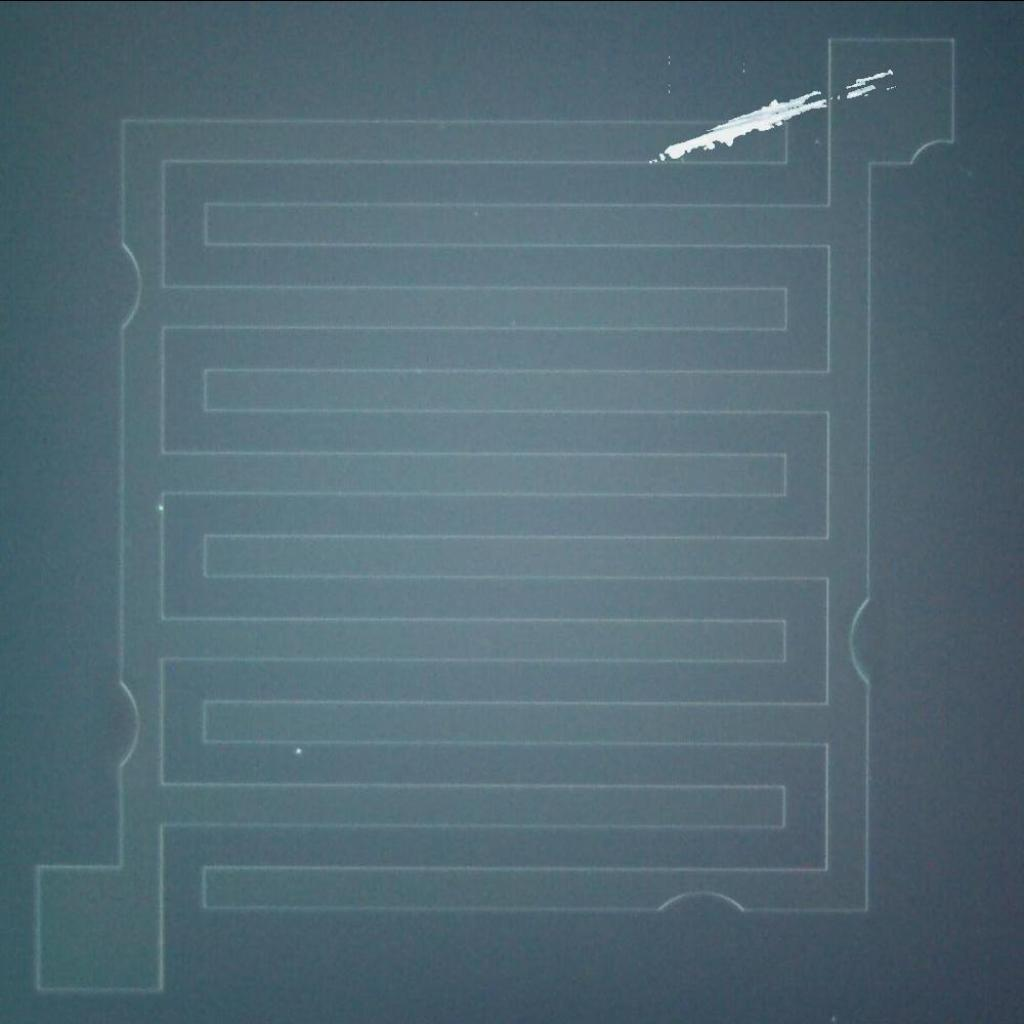curve circuit: (105, 666, 152, 787), (642, 879, 764, 925), (841, 578, 883, 696), (106, 231, 148, 341), (900, 116, 964, 180)
dot: (287, 743, 311, 761)
scratch: (644, 54, 902, 176)
